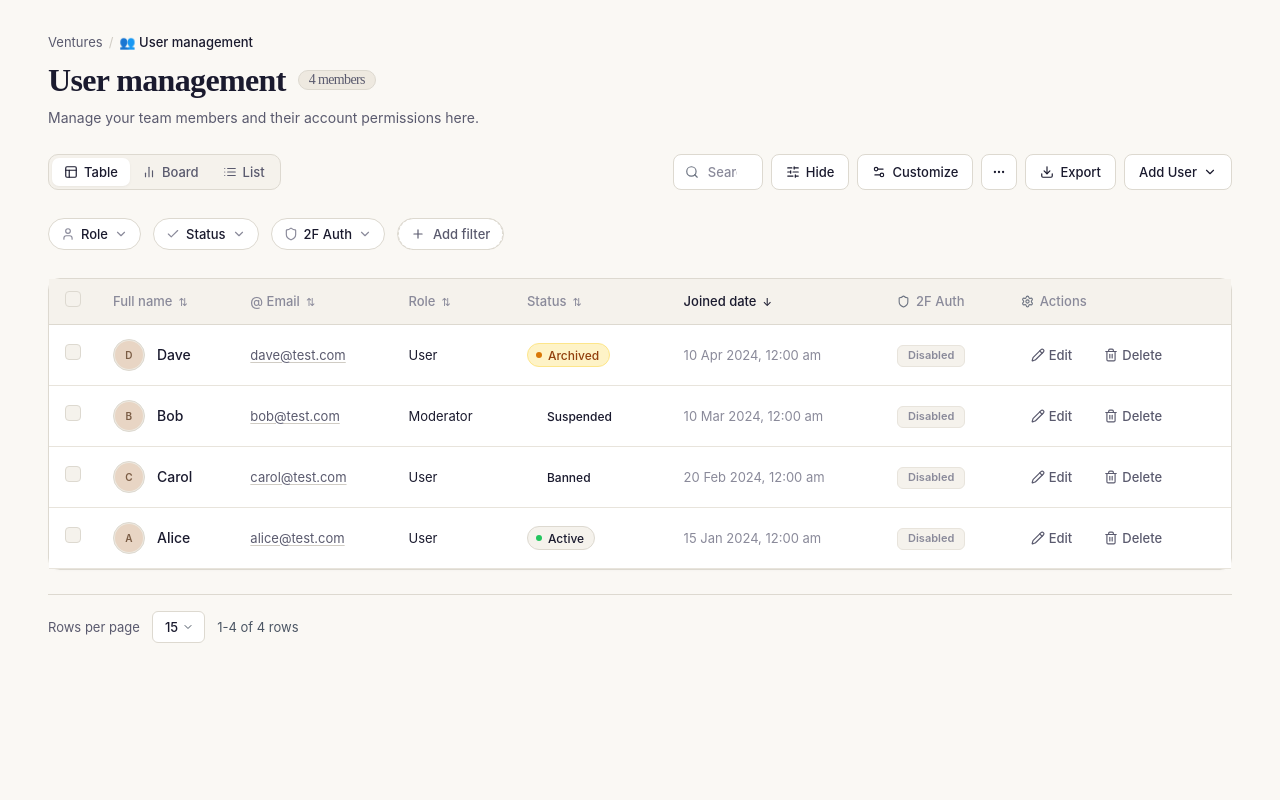
Test: AdminUsersClient — checkbox selection › select-all checkbox selects all visible rows
What coordinates should you click on to do the following:
click the checkbox named "select all users on page"
I would click on:
 (73, 299)
Its box is x1=65 y1=291 x2=81 y2=307.
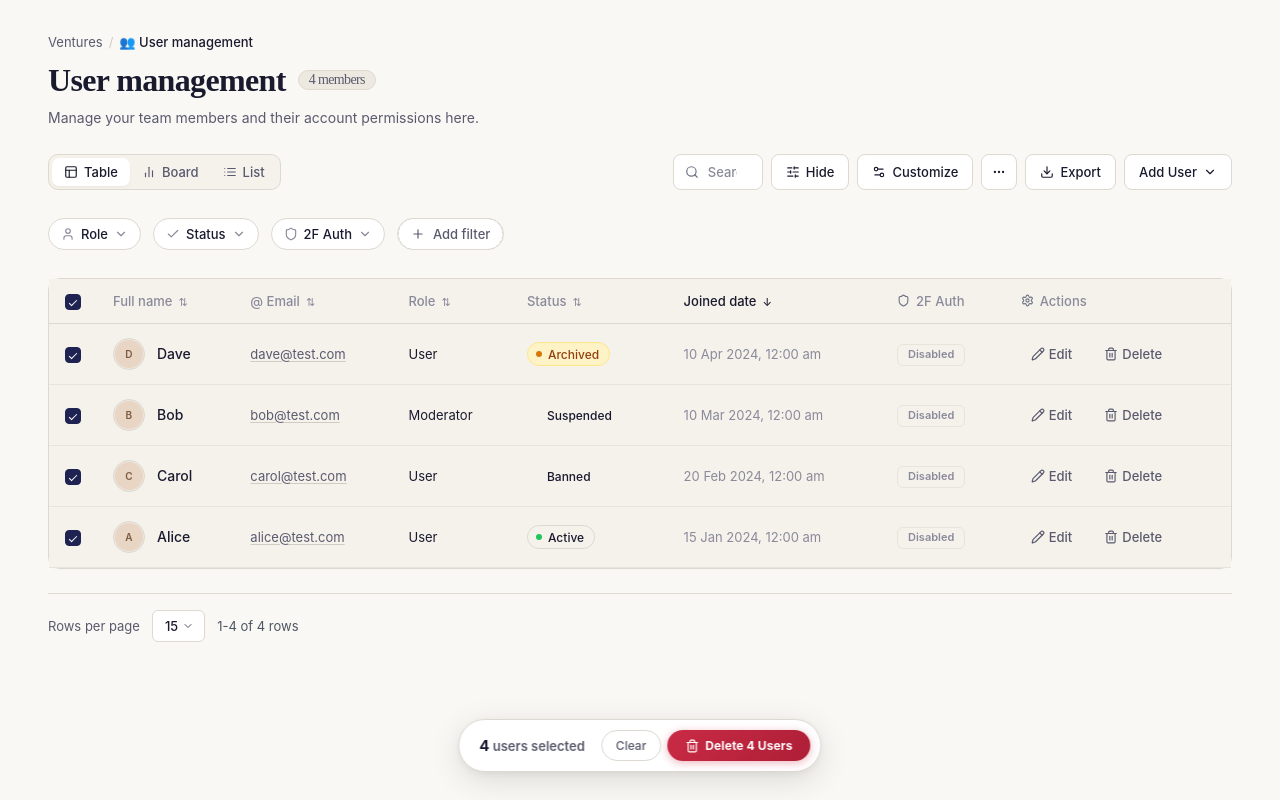
Check: the message "4 users selected Clear Delete 4 Users" is shown, box x1=458 y1=719 x2=822 y2=772
Check: the message shows "4", box x1=479 y1=736 x2=490 y2=754
